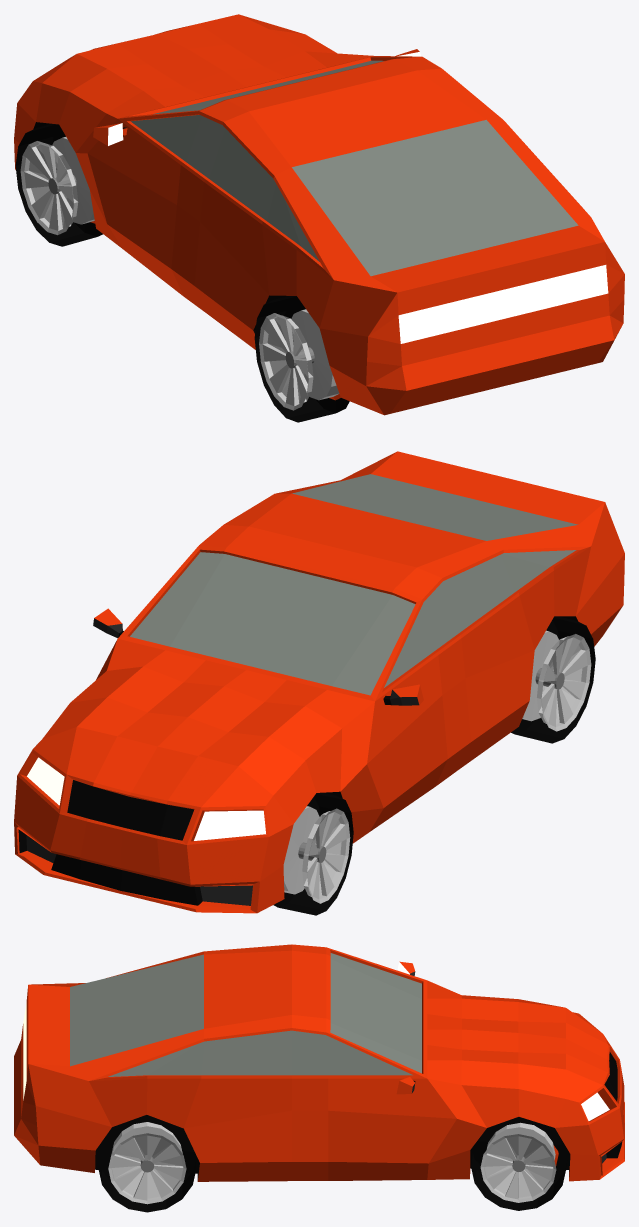
File: car1.glb
The picture shows the model from 3 angles, top to bottom: view 1: azimuth 30°, elevation 25°; view 2: azimuth 150°, elevation 25°; view 3: azimuth 270°, elevation 25°; orthographic projection. The views are drawn at different scales.
Visible parts, largest first — view 1: Cube_0; view 2: Cube_0; view 3: Cube_0.
Boxes of the visible parts, x1,y1,x2,y2 form: Cube_0: (14, 14, 624, 422); Cube_0: (14, 451, 624, 915); Cube_0: (14, 944, 624, 1212).
Bounding box in the file's own units: 2.08 × 1.38 × 4.31.
